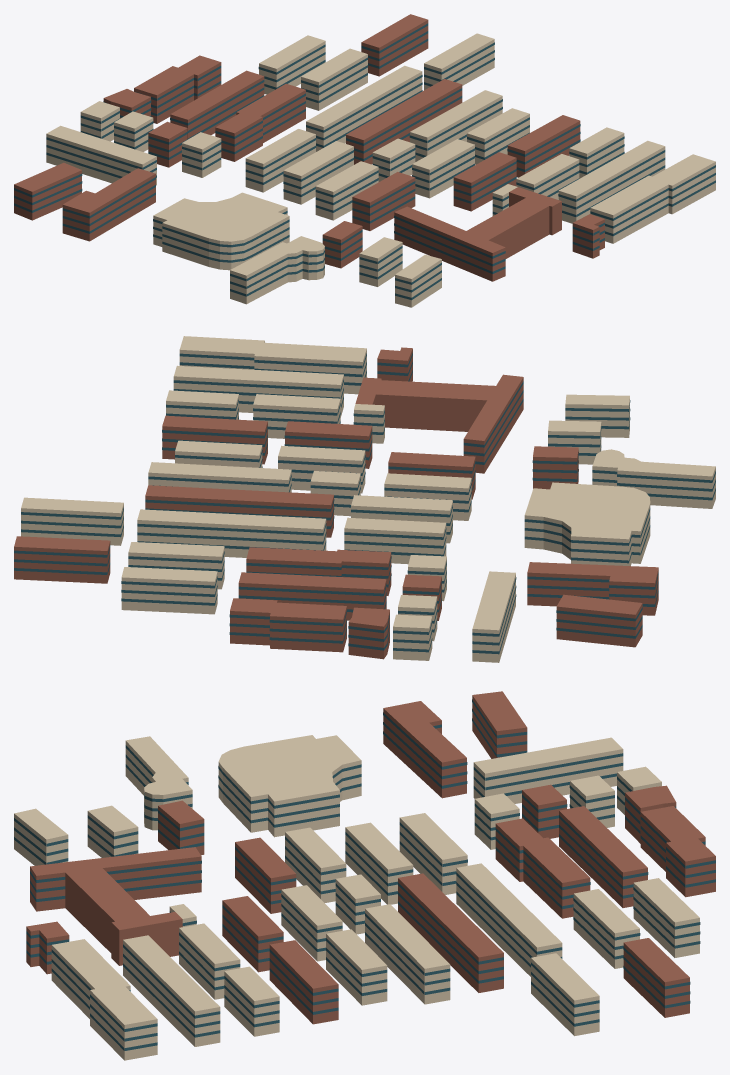
File: city_8_-1.glb
3 views of the same model, one above another, from view 1: azimuth 30°, elevation 25°; view 2: azimuth 150°, elevation 25°; view 3: azimuth 270°, elevation 25° (orthographic). The views are drawn at different scales.
Visible parts, largest first — view 1: city_8_-1; view 2: city_8_-1; view 3: city_8_-1.
Boxes of the visible parts, <box> form: city_8_-1: <box>14,14,715,307</box>; city_8_-1: <box>14,336,715,662</box>; city_8_-1: <box>14,691,715,1060</box>.
Size of the model in its own units: 301 by 15 by 267.
